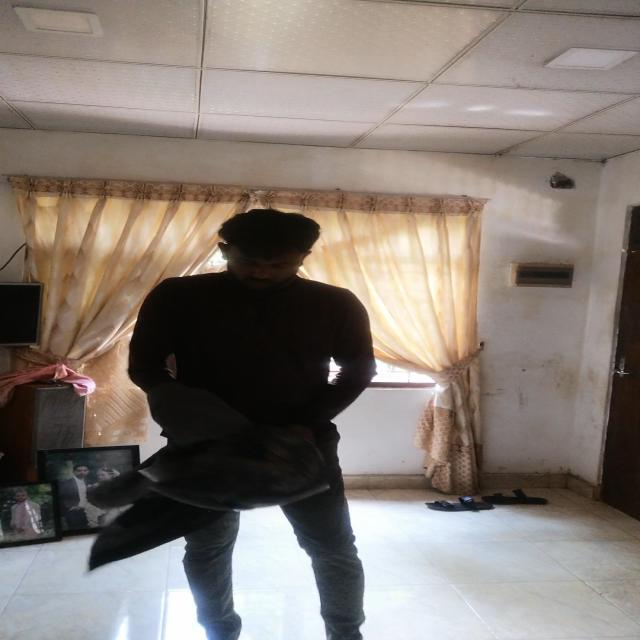Person: (138, 210, 404, 629)
